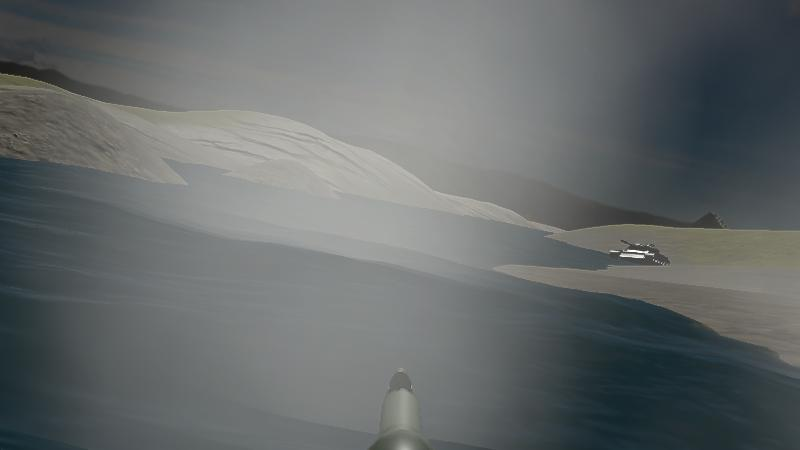Tank: (618, 239, 671, 269)
